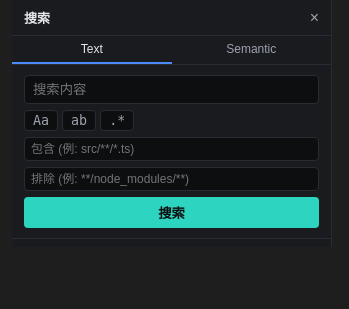
Test: SearchPanel › discards stale text-search results from the workbench service
Type "first" into the field with class "search-input" showing "搜索内容" at point(172, 90), box [24,75,319,104]
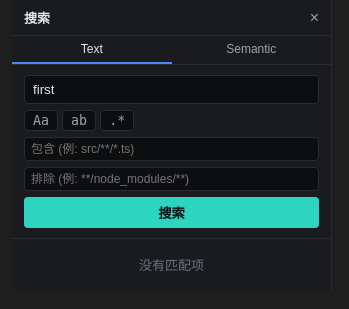
Submit the form, box [12,65,331,239]
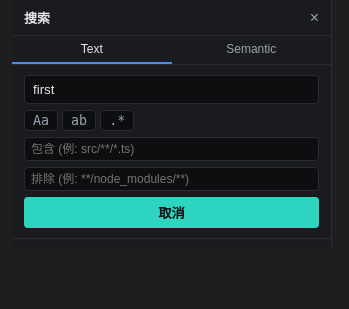
Replace the text in the 1st field with class "search-input" with "second" at point(172, 90), box [24,75,319,104]
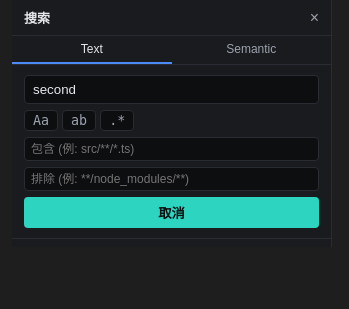
Submit the form, box [12,65,331,239]
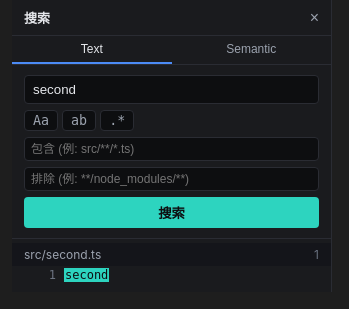
Result: the text "src/second.ts" is shown at [24,247,101,262]
